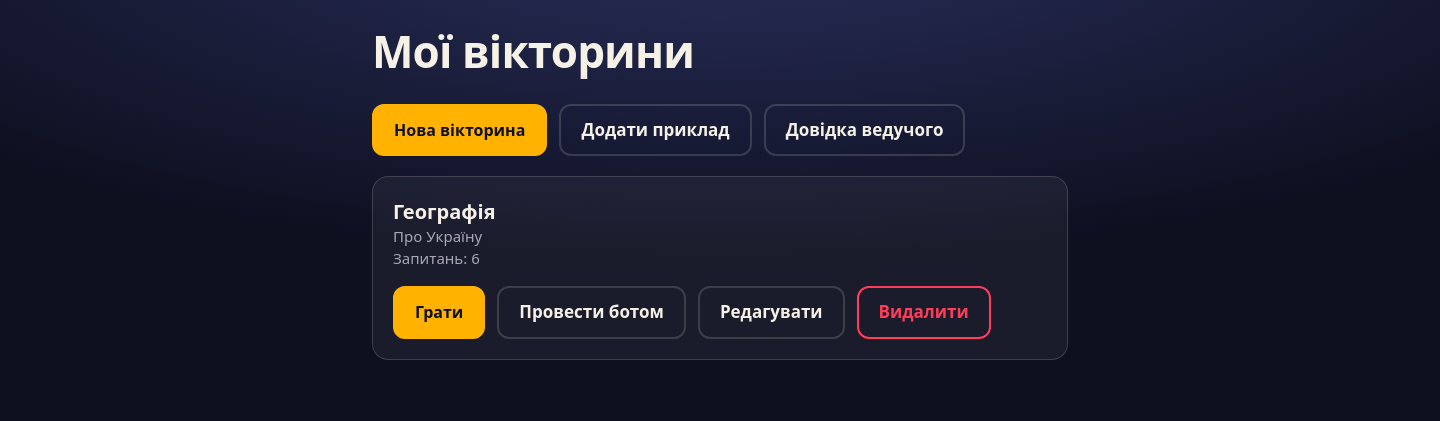
Scenario: Quizzes › explains why a game could not be started
Click the button "Грати" at (439, 312), box [393,286,485,338]
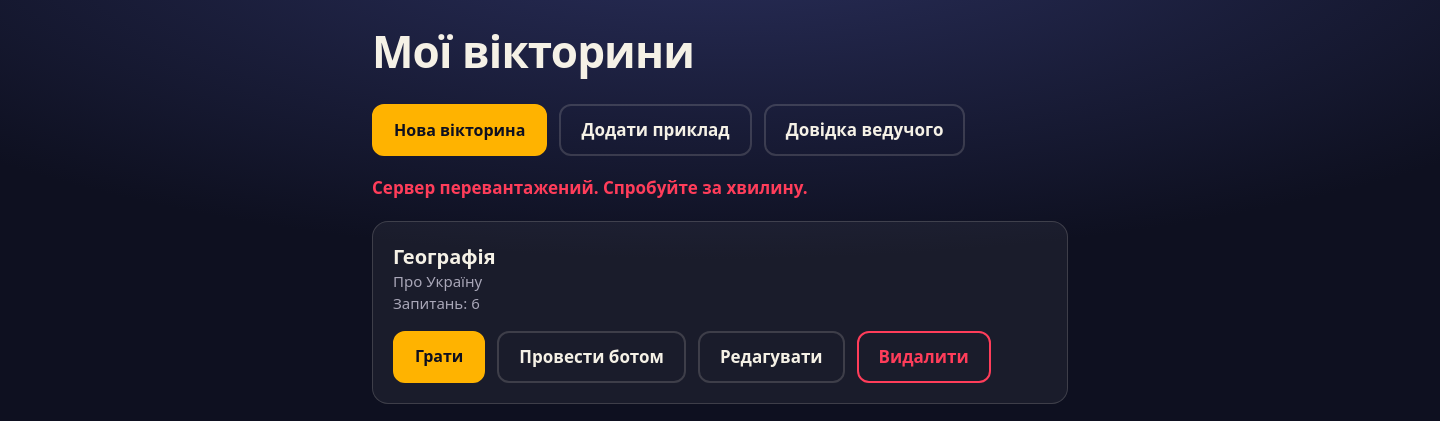
Check: the message reads "Сервер перевантажений. Спробуйте за хвилину.", box [372,176,808,199]
